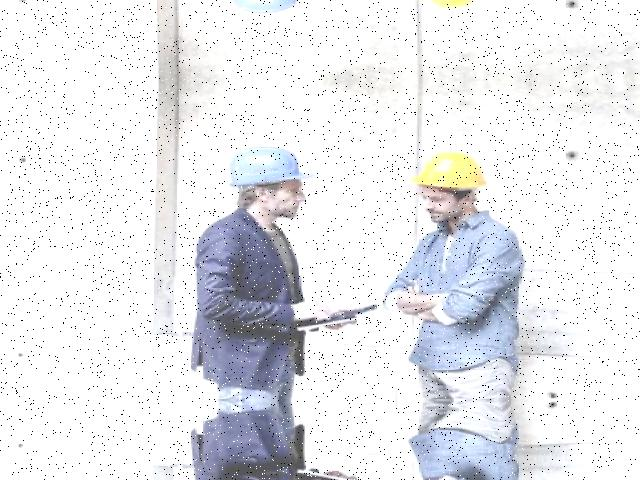Helmet: (225, 141, 322, 191), (409, 145, 496, 196)
